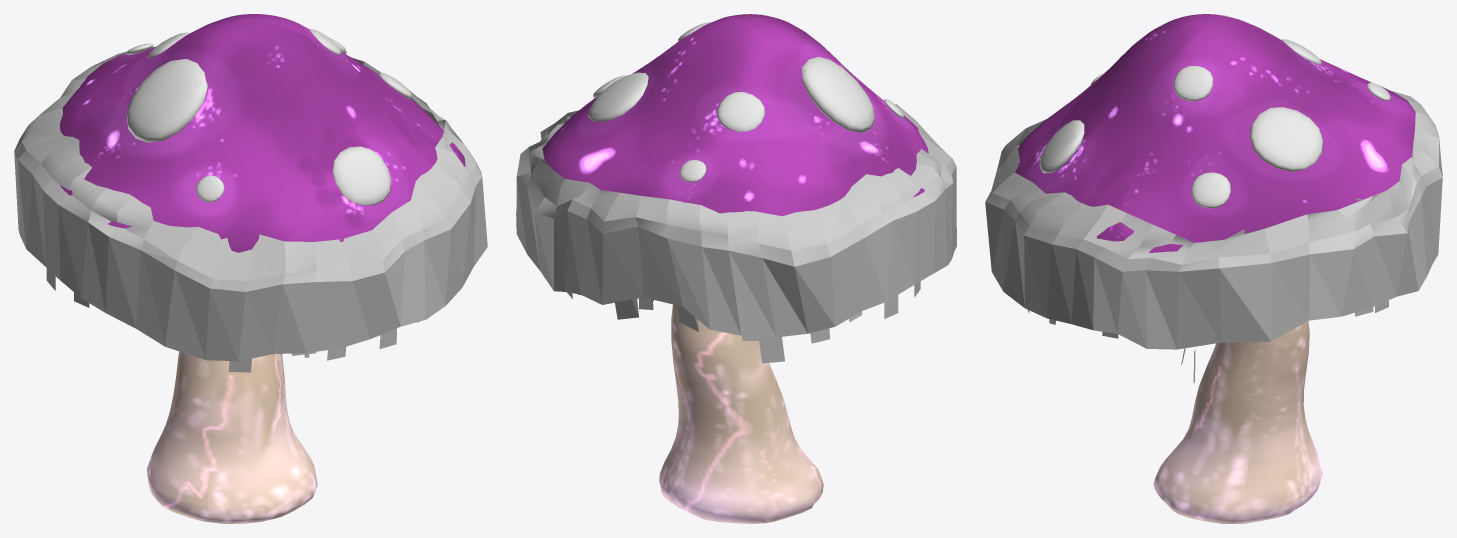
File: vinemushroom.fbx
3 views of the same model, side by side, from view 1: azimuth 30°, elevation 25°; view 2: azimuth 150°, elevation 25°; view 3: azimuth 270°, elevation 25° (orthographic). The views are drawn at different scales.
Visible parts, largest first — view 1: Cylinder, Cylinder.002, Cylinder.001, Cylinder.003; view 2: Cylinder, Cylinder.002, Cylinder.001, Cylinder.003; view 3: Cylinder, Cylinder.002, Cylinder.001, Cylinder.003.
Boxes of the visible parts, x1=… form: Cylinder: x1=14, y1=51, x2=487, y2=372; Cylinder.002: x1=60, y1=14, x2=465, y2=252; Cylinder.001: x1=147, y1=351, x2=317, y2=523; Cylinder.003: x1=126, y1=29, x2=412, y2=205; Cylinder: x1=516, y1=98, x2=956, y2=363; Cylinder.002: x1=542, y1=14, x2=946, y2=216; Cylinder.001: x1=659, y1=304, x2=823, y2=523; Cylinder.003: x1=588, y1=22, x2=903, y2=182; Cylinder: x1=985, y1=85, x2=1442, y2=383; Cylinder.002: x1=1015, y1=14, x2=1415, y2=253; Cylinder.001: x1=1153, y1=321, x2=1322, y2=523; Cylinder.003: x1=1039, y1=14, x2=1390, y2=208.
Size of the model in its own units: 204 by 242 by 208.
